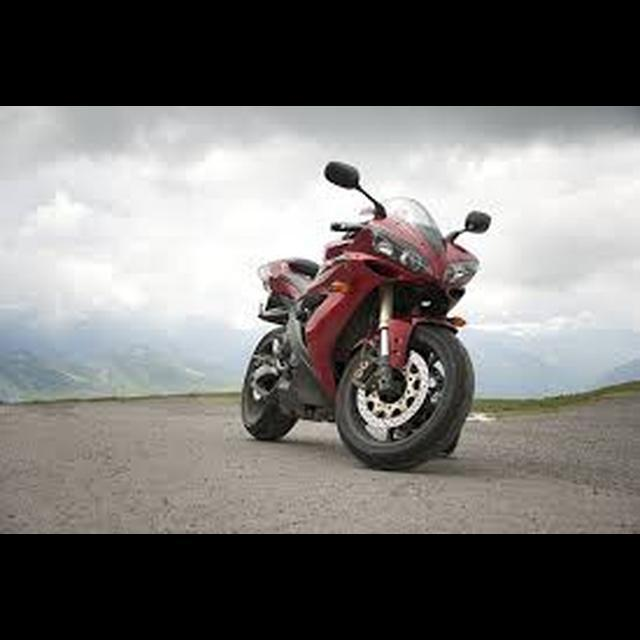motorcycle: (243, 153, 495, 478)
